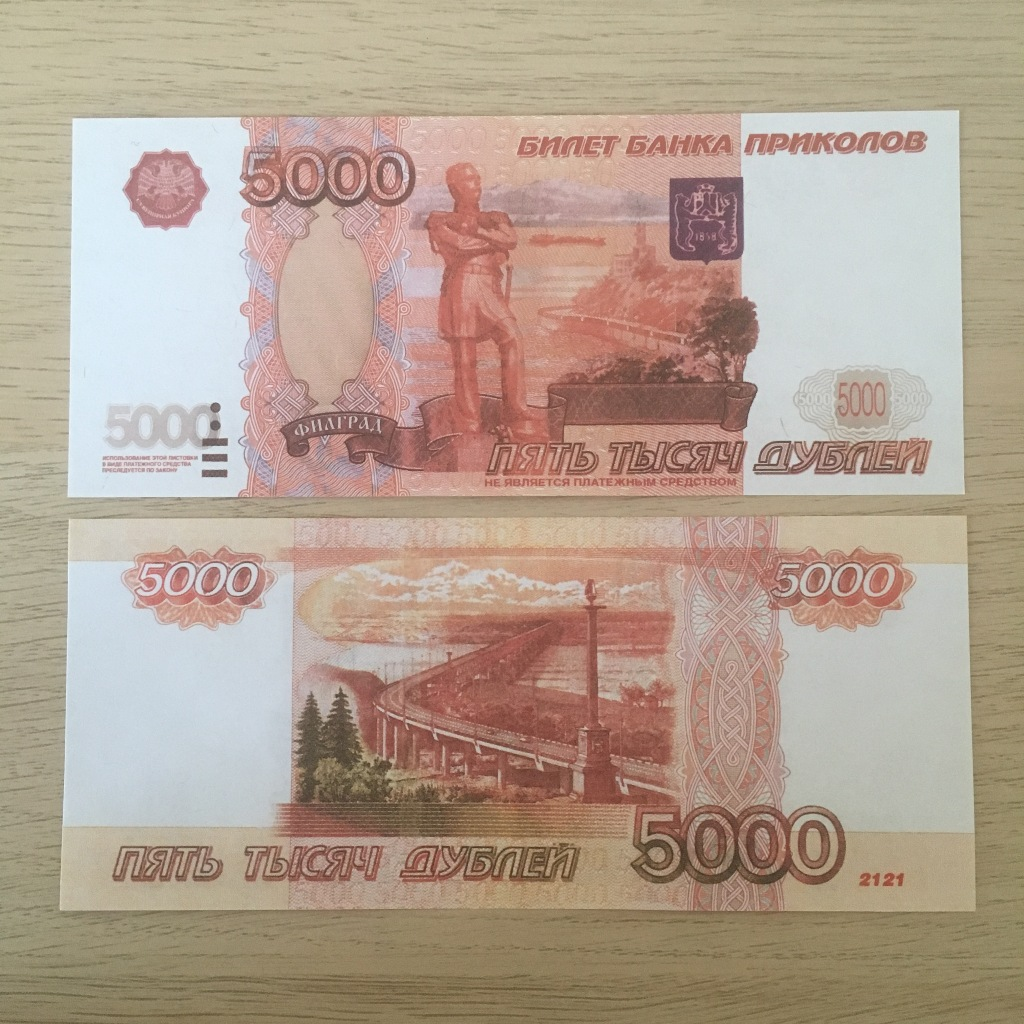cash: (59, 515, 975, 911), (68, 110, 968, 498)
